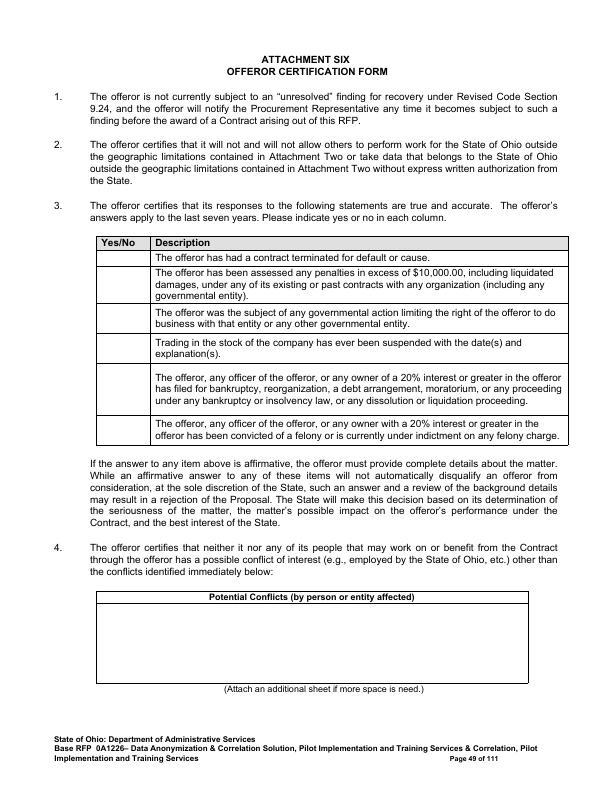table: (91, 230, 576, 450), (93, 589, 534, 699)
text: (84, 456, 567, 530), (48, 135, 572, 189), (48, 728, 544, 771), (45, 540, 569, 580), (50, 89, 565, 128), (50, 195, 578, 224), (222, 47, 397, 80)
